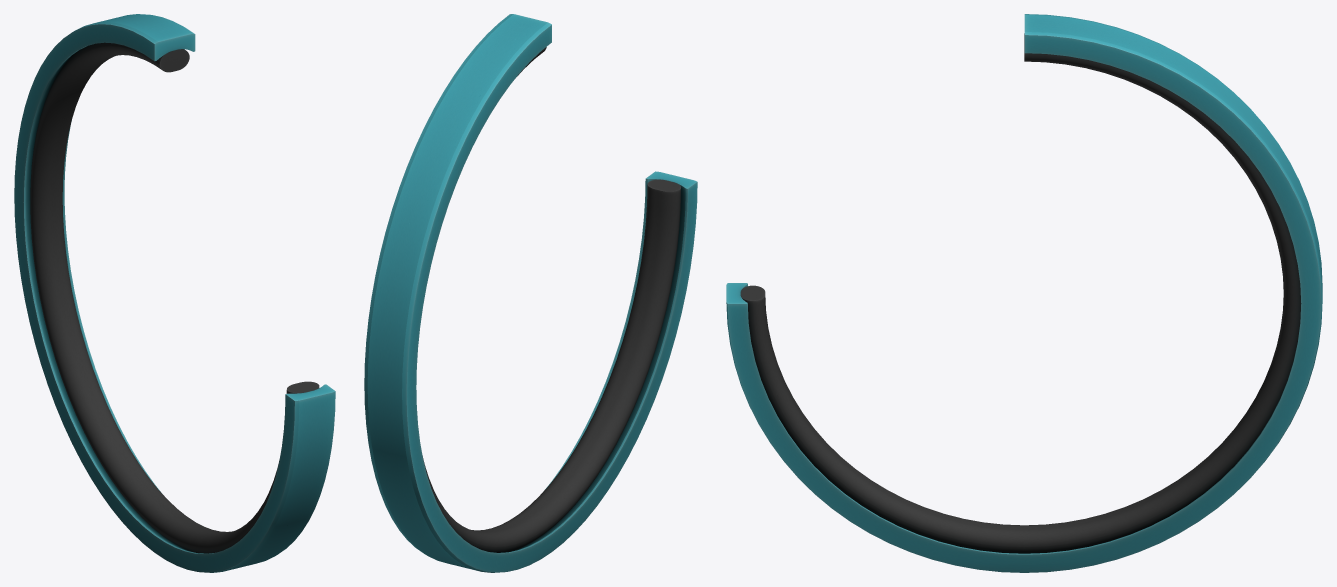
3 renders of one model, left to right at view 1: azimuth 30°, elevation 25°; view 2: azimuth 150°, elevation 25°; view 3: azimuth 270°, elevation 25°, orthographic. The views are drawn at different scales.
Visible parts, largest first — view 1: PR00097Pneumatic Glyd Ring® for Piston and Rods; view 2: PR00097Pneumatic Glyd Ring® for Piston and Rods; view 3: PR00097Pneumatic Glyd Ring® for Piston and Rods.
Boxes of the visible parts, x1,y1,x2,y2 form: PR00097Pneumatic Glyd Ring® for Piston and Rods: (14,14,335,572); PR00097Pneumatic Glyd Ring® for Piston and Rods: (364,14,697,572); PR00097Pneumatic Glyd Ring® for Piston and Rods: (726,14,1322,572).
Size of the model in its own units: 0.0168 by 0.2017 by 0.2017.
1 material, 1 textured.
